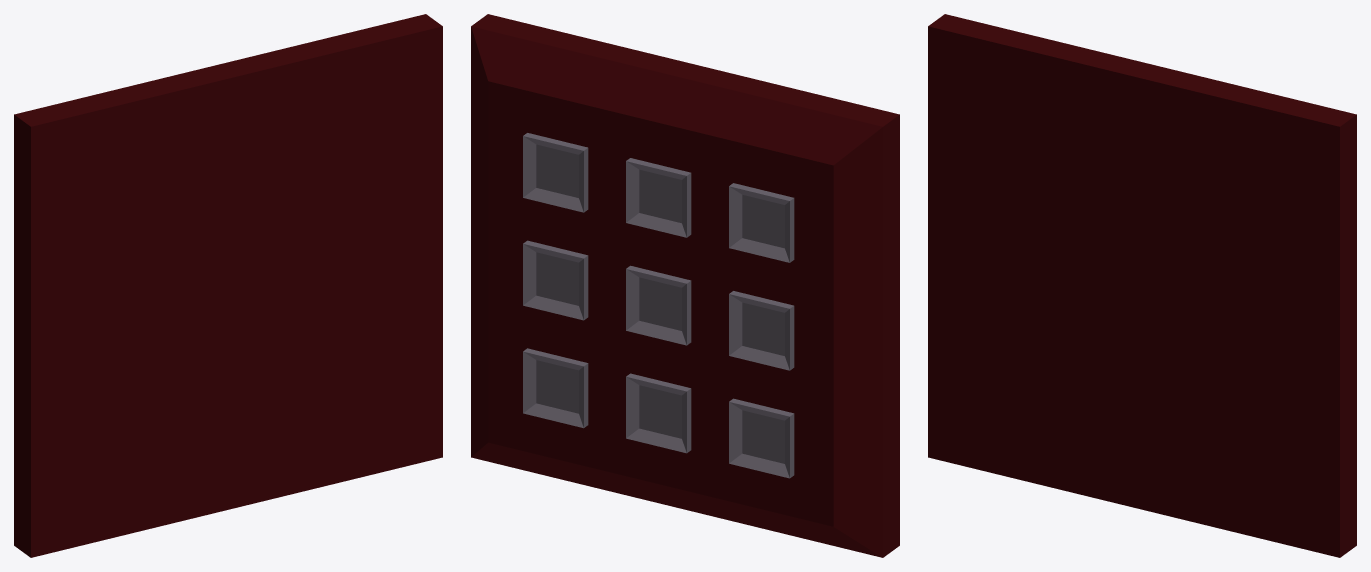
File: TicTacToeBoard.fbx
The picture shows the model from 3 angles, left to right: view 1: azimuth 30°, elevation 25°; view 2: azimuth 150°, elevation 25°; view 3: azimuth 330°, elevation 25°; orthographic projection.
Visible parts, largest first — view 1: Plane.001; view 2: Plane.001; view 3: Plane.001.
Part boxes in pixels (left/top/right/bottom): Plane.001: left=14, top=14, right=442, bottom=557; Plane.001: left=471, top=14, right=899, bottom=557; Plane.001: left=928, top=14, right=1356, bottom=557.
Size of the model in its own units: 200 by 200 by 31.54.
